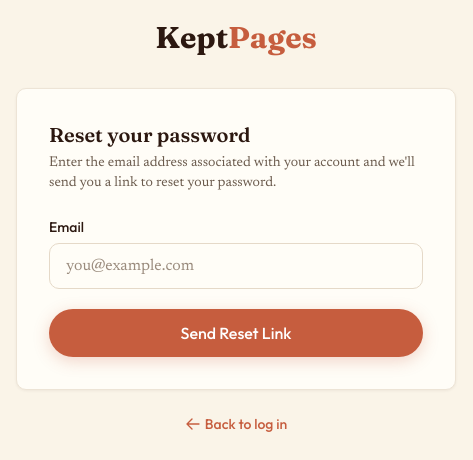
Test: ForgotPassword page › shows validation error for invalid email format
The width and height of the screenshot is (473, 460).
In the field labelled "Email": coordinates (236, 266) [49,242,423,288], type "not-an-email"
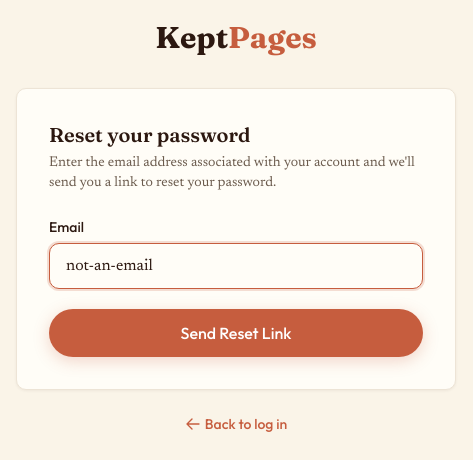
Click the button "Send Reset Link": coordinates (236, 332) [49,308,423,356]
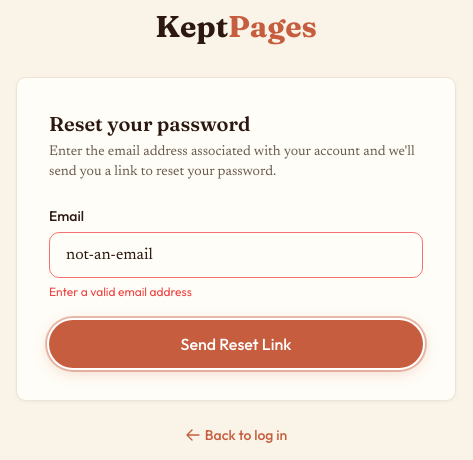
Check: the text "Enter a valid email address" is shown, box [49,284,192,298]
